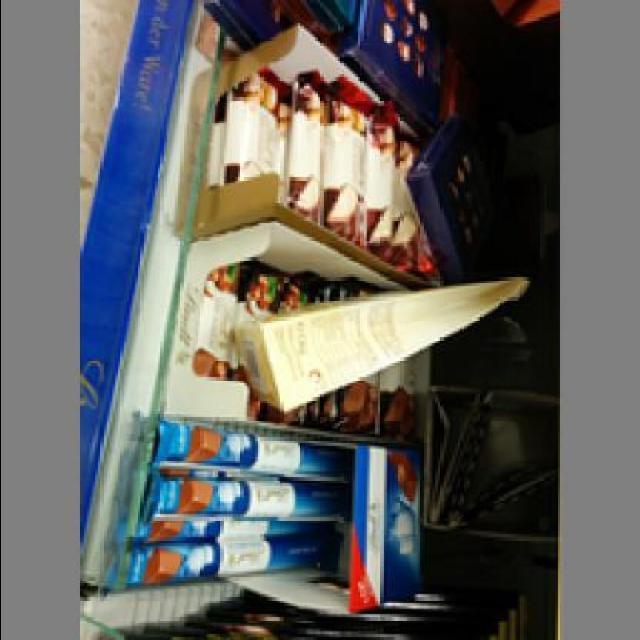Chocolate bar: (234, 271, 537, 409), (225, 48, 289, 204), (170, 428, 353, 468), (326, 86, 374, 234), (146, 483, 354, 514)
